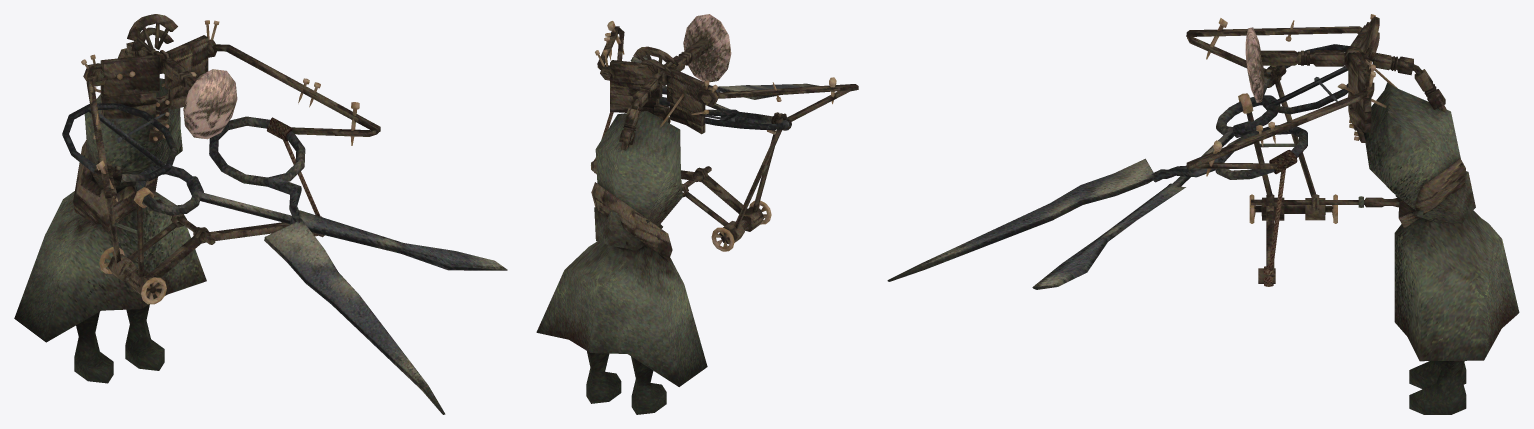
Rendered from psx_horror_entity.glb.
The picture shows the model from 3 angles, left to right: view 1: azimuth 30°, elevation 25°; view 2: azimuth 150°, elevation 25°; view 3: azimuth 270°, elevation 25°; orthographic projection. The views are drawn at different scales.
Parts seen in each view (by area): view 1: Cube; view 2: Cube; view 3: Cube.
Part boxes in pixels (x1=…): Cube: x1=14, y1=14, x2=507, y2=414; Cube: x1=536, y1=14, x2=858, y2=414; Cube: x1=887, y1=14, x2=1519, y2=414.
Bounding box in the file's own units: 5.24 × 5.77 × 8.79.
1 material, 1 textured.
